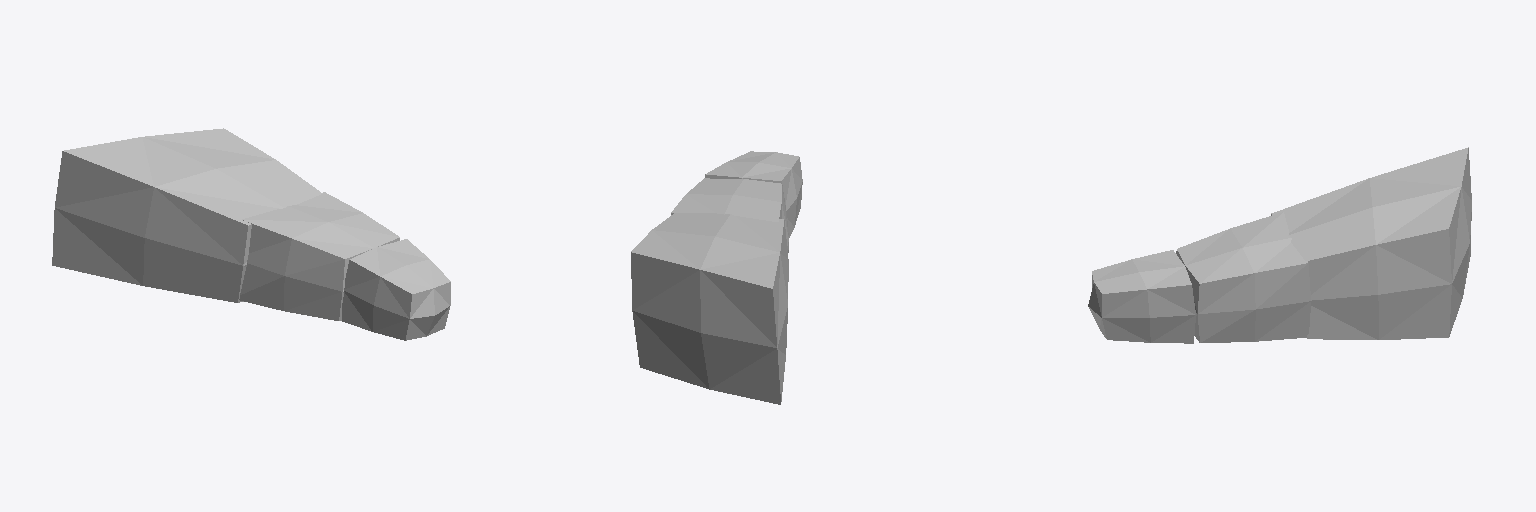
Rendered from thumb.obj.
The picture shows the model from 3 angles: view 1: azimuth 30°, elevation 25°; view 2: azimuth 150°, elevation 25°; view 3: azimuth 270°, elevation 25°; orthographic projection.
Visible parts, largest first — view 1: R_thumbinner_a_geo, R_thumbinner_a_geo1, R_thumbinner_b_geo; view 2: R_thumbinner_a_geo, R_thumbinner_a_geo1, R_thumbinner_b_geo; view 3: R_thumbinner_a_geo, R_thumbinner_a_geo1, R_thumbinner_b_geo.
Boxes of the visible parts, x1,y1,x2,y2 form: R_thumbinner_a_geo: [52, 128, 322, 302]; R_thumbinner_a_geo1: [239, 192, 399, 320]; R_thumbinner_b_geo: [342, 239, 450, 340]; R_thumbinner_a_geo: [631, 213, 788, 404]; R_thumbinner_a_geo1: [671, 178, 788, 252]; R_thumbinner_b_geo: [705, 151, 802, 237]; R_thumbinner_a_geo: [1271, 147, 1471, 339]; R_thumbinner_a_geo1: [1176, 212, 1310, 342]; R_thumbinner_b_geo: [1088, 250, 1195, 343].
Bounding box in the file's own units: 7.73 × 4.1 × 11.84.